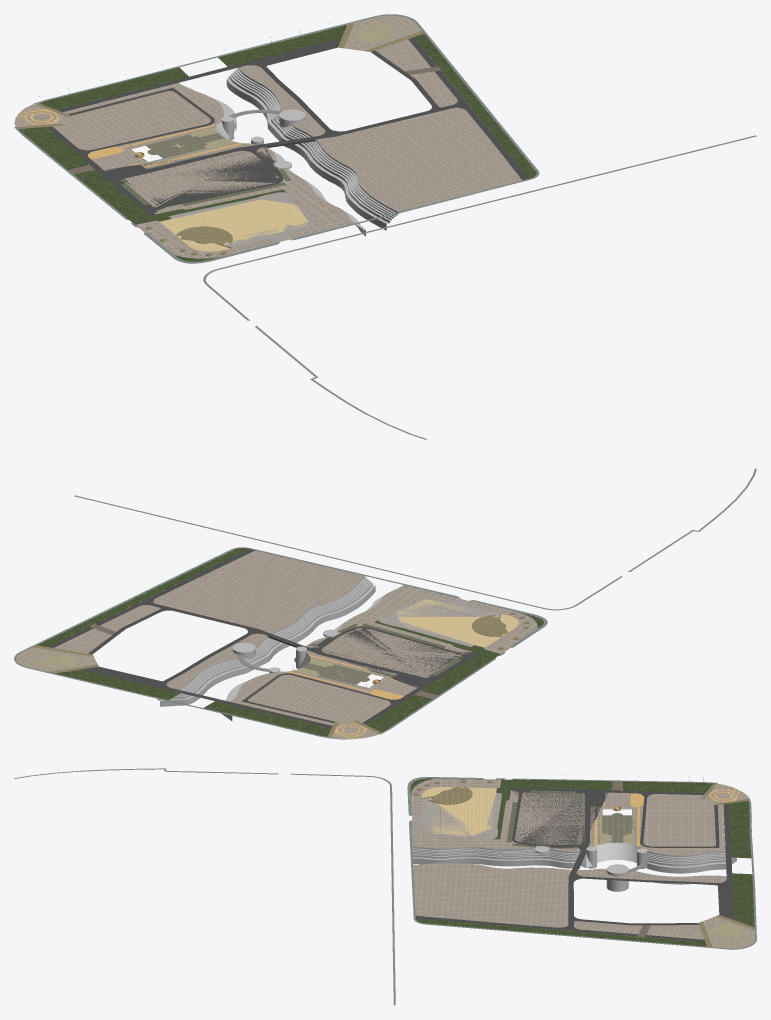
File: wanliandimian.FBX
3 renders of one model, top to bottom at view 1: azimuth 30°, elevation 25°; view 2: azimuth 150°, elevation 25°; view 3: azimuth 270°, elevation 25°, orthographic. The views are drawn at different scales.
Parts seen in each view (by area): view 1: Line1857, Line024, Line007, Line073, Object5165, Line1859, LD_DM014, Line1860, Line014, Line1854, Line021, Line1855 (+5 smaller); view 2: Line1857, Line024, Line007, Line073, Object5165, Line1859, Line1860, LD_DM014, Line014, Line072, Line1854, Line021 (+6 smaller); view 3: Line1857, Line024, Line007, Line073, Object5165, Line1859, Line1860, LD_DM014, Line014, Line1854, Line072, Line021 (+8 smaller).
Boxes of the visible parts, x1=… form: Line1857: x1=316, y1=107, x2=521, y2=211; Line024: x1=47, y1=37, x2=528, y2=215; Line007: x1=19, y1=25, x2=536, y2=219; Line073: x1=129, y1=189, x2=337, y2=261; Object5165: x1=181, y1=67, x2=398, y2=236; Line1859: x1=61, y1=91, x2=210, y2=147; LD_DM014: x1=14, y1=14, x2=756, y2=439; Line1860: x1=125, y1=150, x2=278, y2=206; Line014: x1=63, y1=83, x2=257, y2=170; Line1854: x1=14, y1=15, x2=421, y2=126; Line021: x1=154, y1=147, x2=354, y2=227; Line1855: x1=375, y1=39, x2=457, y2=107; Line1857: x1=153, y1=550, x2=364, y2=633; Line024: x1=48, y1=549, x2=478, y2=728; Line007: x1=37, y1=548, x2=494, y2=736; Line073: x1=374, y1=588, x2=543, y2=657; Object5165: x1=157, y1=576, x2=382, y2=720; Line1859: x1=248, y1=674, x2=382, y2=722; Line1860: x1=322, y1=628, x2=458, y2=677; LD_DM014: x1=14, y1=468, x2=756, y2=738; Line014: x1=231, y1=650, x2=418, y2=725; Line072: x1=378, y1=597, x2=500, y2=647; Line1854: x1=16, y1=647, x2=379, y2=739; Line021: x1=306, y1=585, x2=472, y2=653; Line1857: x1=413, y1=863, x2=571, y2=927; Line024: x1=415, y1=787, x2=734, y2=942; Line007: x1=416, y1=779, x2=754, y2=946; Line073: x1=409, y1=778, x2=512, y2=839; Object5165: x1=412, y1=847, x2=736, y2=884; Line1859: x1=643, y1=797, x2=715, y2=846; Line1860: x1=515, y1=793, x2=584, y2=844; LD_DM014: x1=14, y1=768, x2=756, y2=1005; Line014: x1=588, y1=792, x2=725, y2=855; Line1854: x1=703, y1=783, x2=754, y2=948; Line072: x1=412, y1=793, x2=502, y2=839; Line021: x1=412, y1=790, x2=580, y2=851.
Size of the model in its own units: 76629 by 3151 by 101486.
